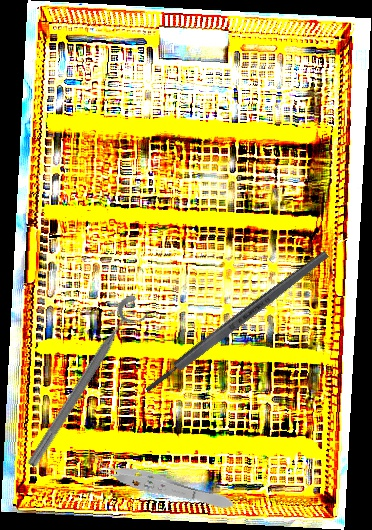Fixation Ring: (21, 291, 155, 477)
Scalpel Handle: (142, 248, 331, 396)
Tissue Forceps: (84, 451, 238, 517)
